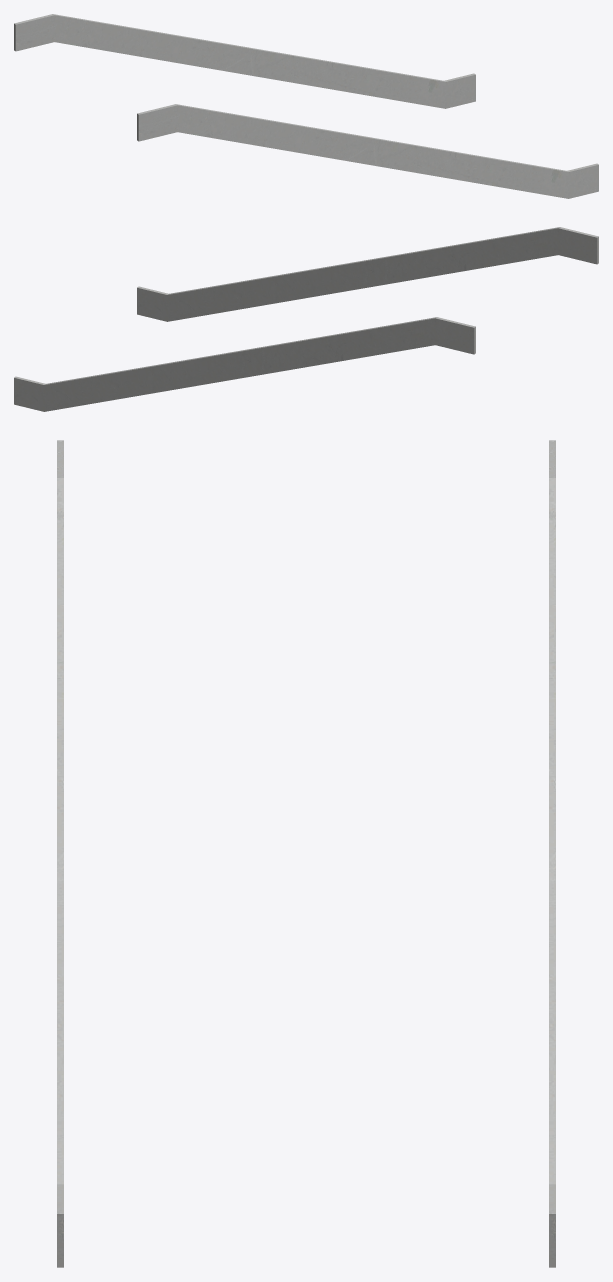
File: StairSidesShorter.FBX
3 views of the same model, one above another, from view 1: azimuth 30°, elevation 25°; view 2: azimuth 150°, elevation 25°; view 3: azimuth 270°, elevation 25° (orthographic). The views are drawn at different scales.
Parts seen in each view (by area): view 1: StairSidesShorter; view 2: StairSidesShorter; view 3: StairSidesShorter.
Part boxes in pixels (x1,y1,x2,y2): StairSidesShorter: (14,14,598,198); StairSidesShorter: (14,227,598,411); StairSidesShorter: (57,440,555,1267).
Bounding box in the file's own units: 660 × 310 × 259.
